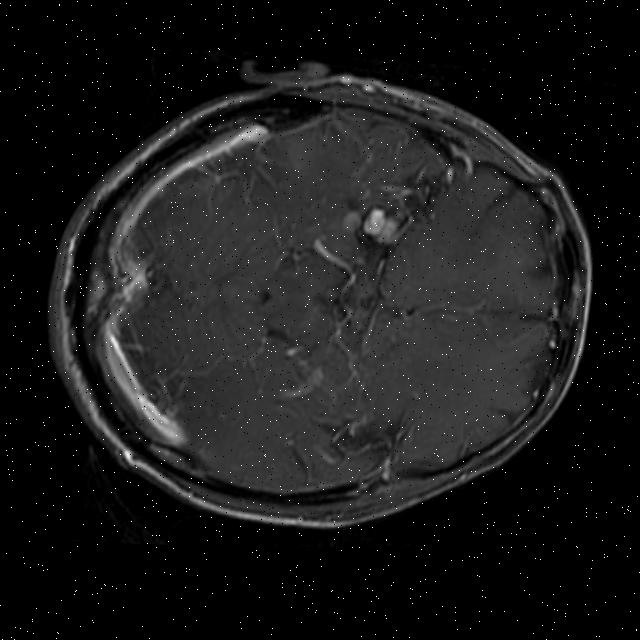Glioma: (357, 203, 407, 249)
